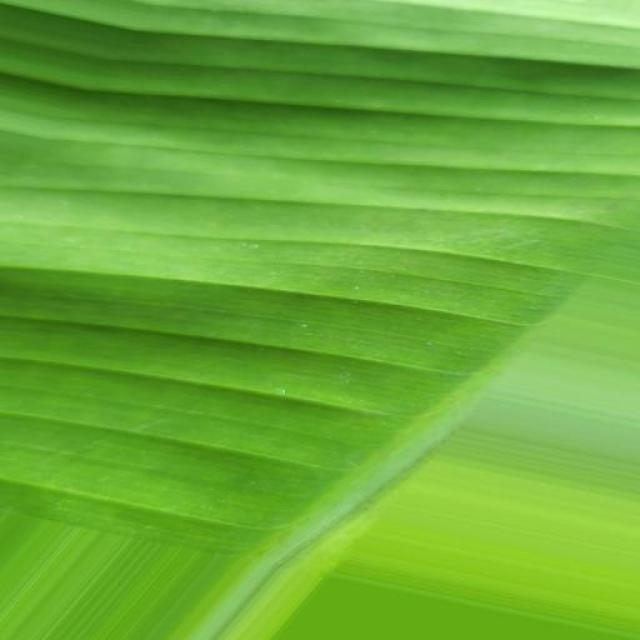Black_leaf_spot: (0, 0, 617, 532)
